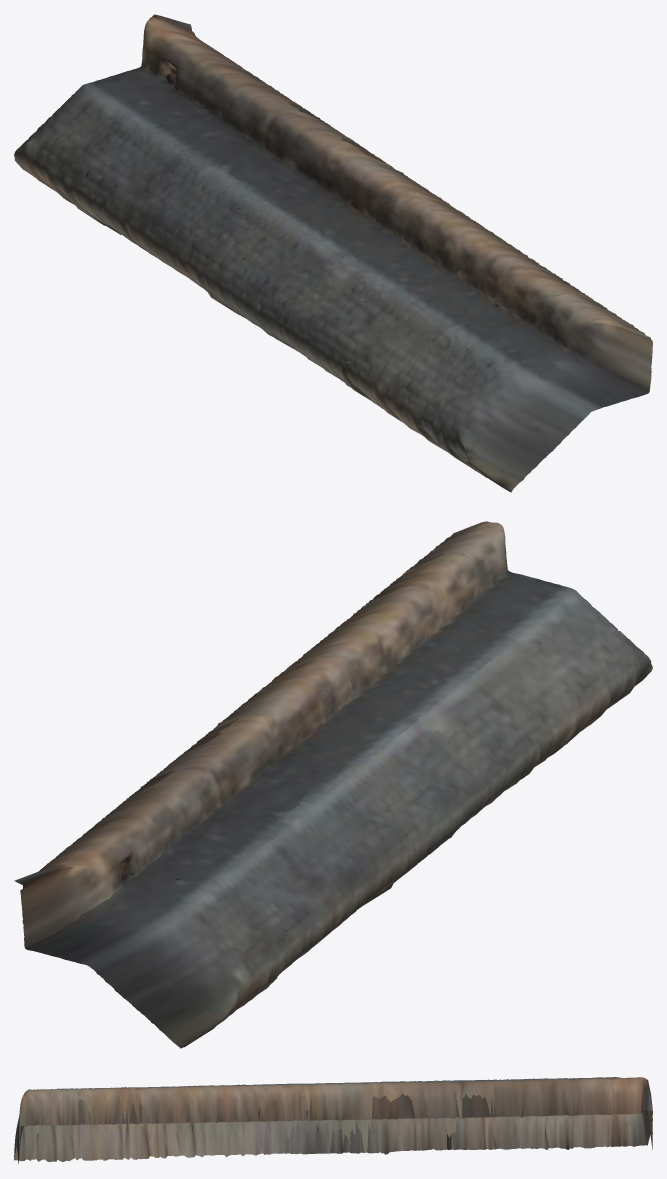
Rendered from run4_p2_c17.glb.
The picture shows the model from 3 angles, top to bottom: view 1: azimuth 30°, elevation 25°; view 2: azimuth 150°, elevation 25°; view 3: azimuth 270°, elevation 25°; orthographic projection. The views are drawn at different scales.
Visible parts, largest first — view 1: run4_p2_straight_c17; view 2: run4_p2_straight_c17; view 3: run4_p2_straight_c17.
Part boxes in pixels (<box>): run4_p2_straight_c17: <box>14,14,652,492</box>; run4_p2_straight_c17: <box>14,521,652,1048</box>; run4_p2_straight_c17: <box>14,1077,652,1164</box>.
Bounding box in the file's own units: 5.9 × 3.78 × 20.05.
1 material, 1 textured.
